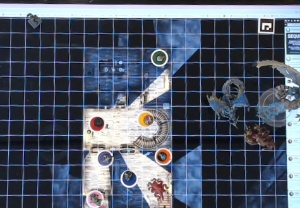blue: (119, 169, 137, 189)
green: (149, 48, 172, 68)
orange: (154, 146, 172, 165)
pink: (82, 188, 107, 206)
red: (88, 115, 106, 135)
violet: (96, 147, 114, 166)
yellow: (135, 108, 155, 128)
